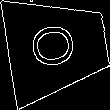O_E: (29, 22, 86, 73)
